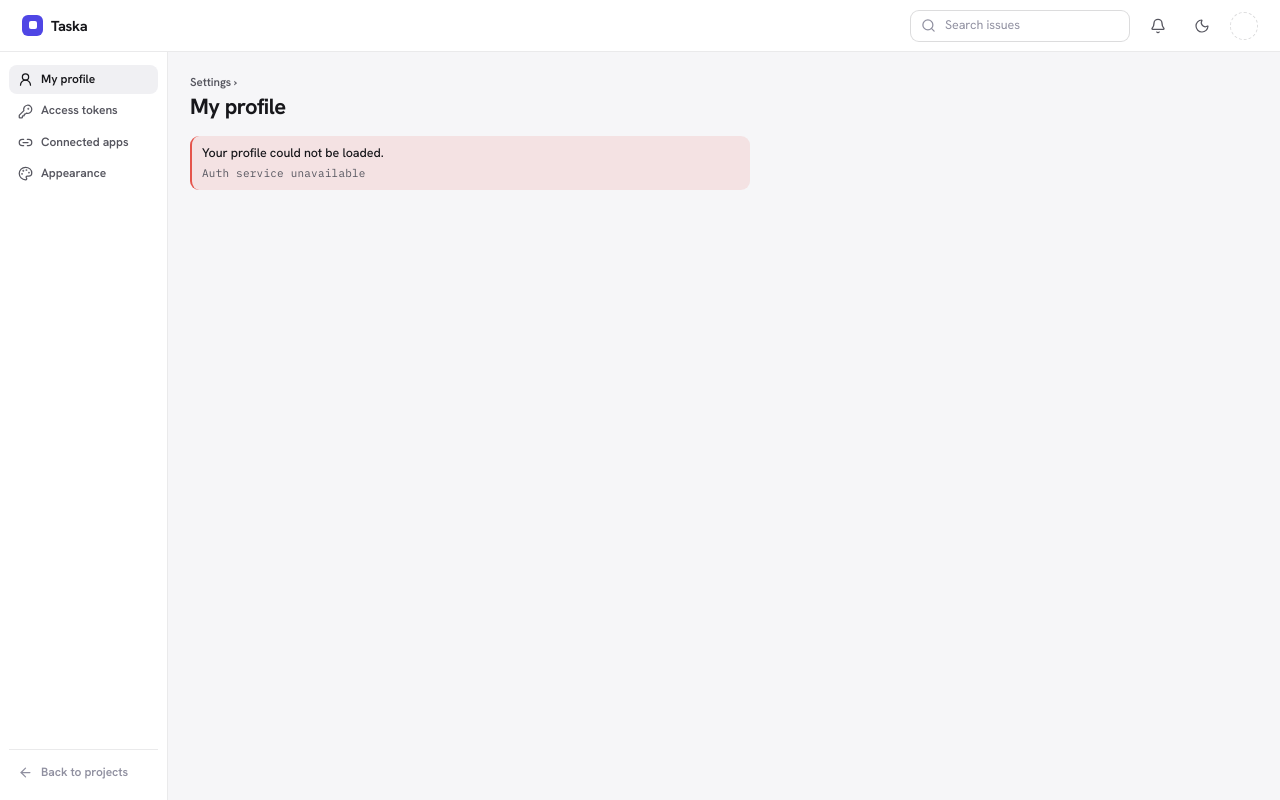
Test: the Settings area › draws for a profile that could not be read, so Appearance stays reachable
Expected: the text "Your profile could not be loaded." is shown, x1=202 y1=144 x2=384 y2=161
Click the link "Appearance": (62, 173) x1=18 y1=165 x2=106 y2=181
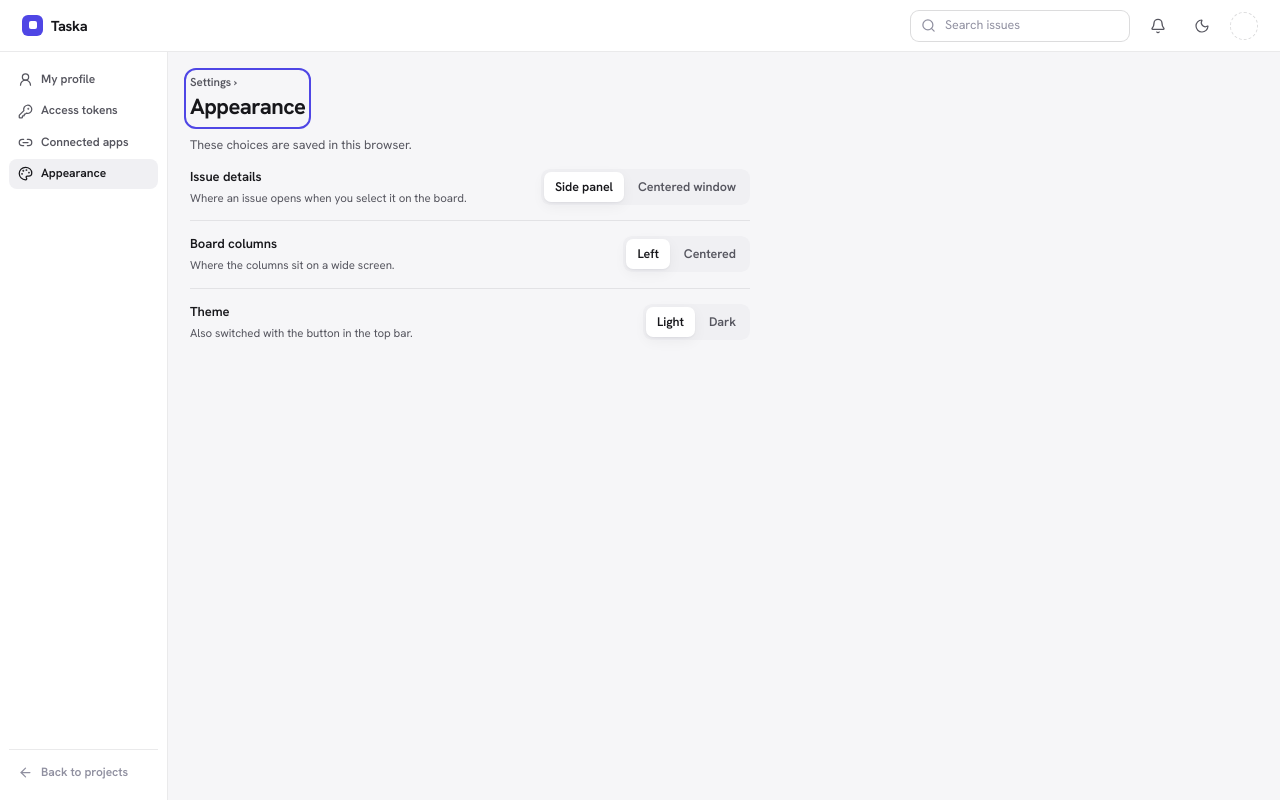
Expected: the element named "Issue details" is shown, x1=541 y1=169 x2=750 y2=205
